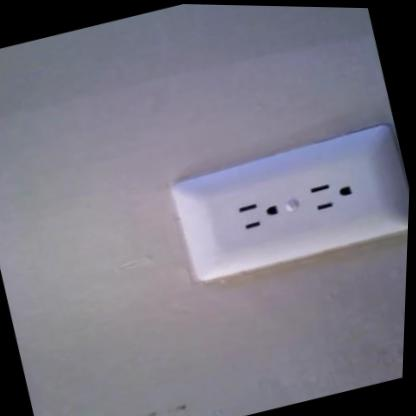OUTLET: (167, 119, 412, 286)
